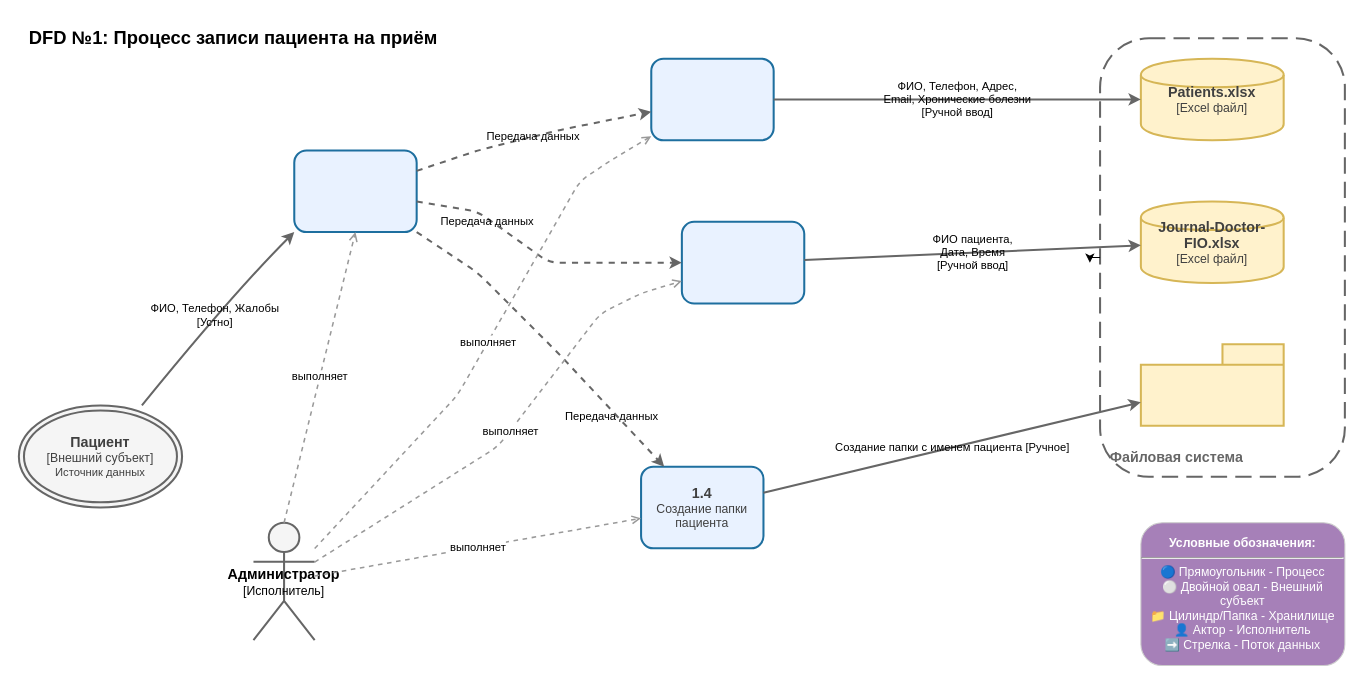
Image size: 1363x683. Some labels were removed from this diagram. The box of each missing label's shape, as (x1, y1, x2, y2) in pixels:
1.1 Сбор первичных данных: (293, 149, 417, 233)
1.2 Ввод в Patients.xlsx: (650, 57, 774, 141)
1.3 Запись в Journal-Doctor.xlsx: (680, 220, 805, 304)
Папка пациента [Файловая система]: (1139, 343, 1284, 426)
